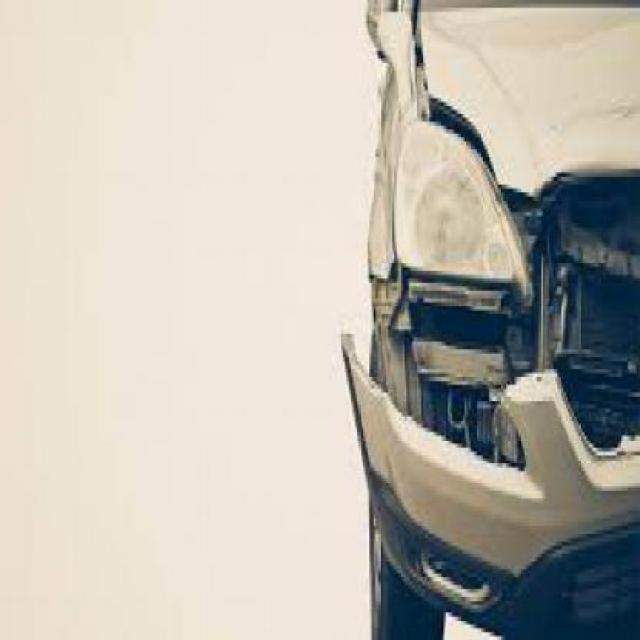damaged-front-bumper: (342, 279, 638, 636)
